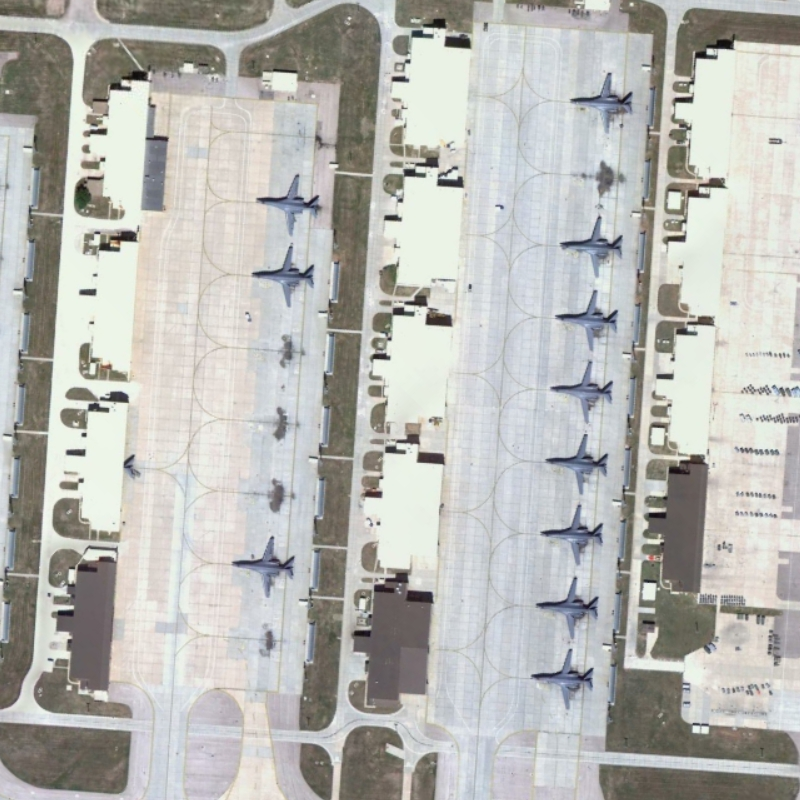A10: (248, 238, 321, 311), (536, 500, 610, 572), (251, 172, 326, 242), (558, 210, 632, 280), (571, 66, 638, 139), (529, 641, 598, 711), (548, 358, 619, 426), (541, 430, 614, 495), (229, 533, 299, 600), (552, 289, 623, 353), (533, 573, 602, 638)
